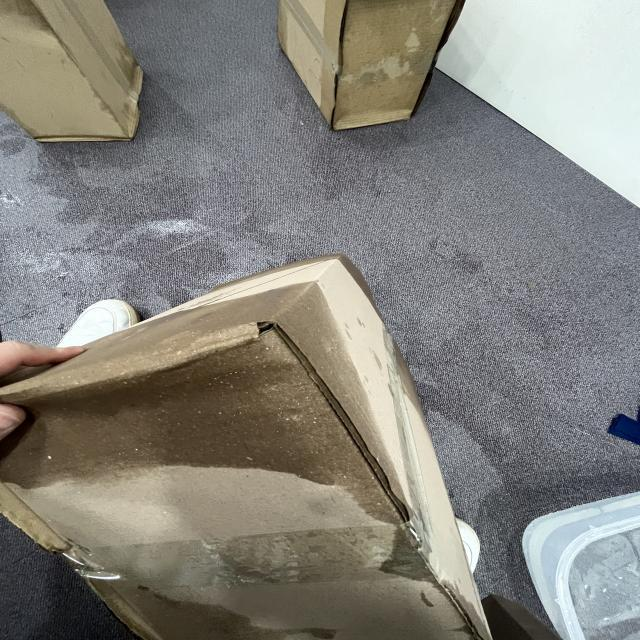wet: (4, 283, 416, 476)
